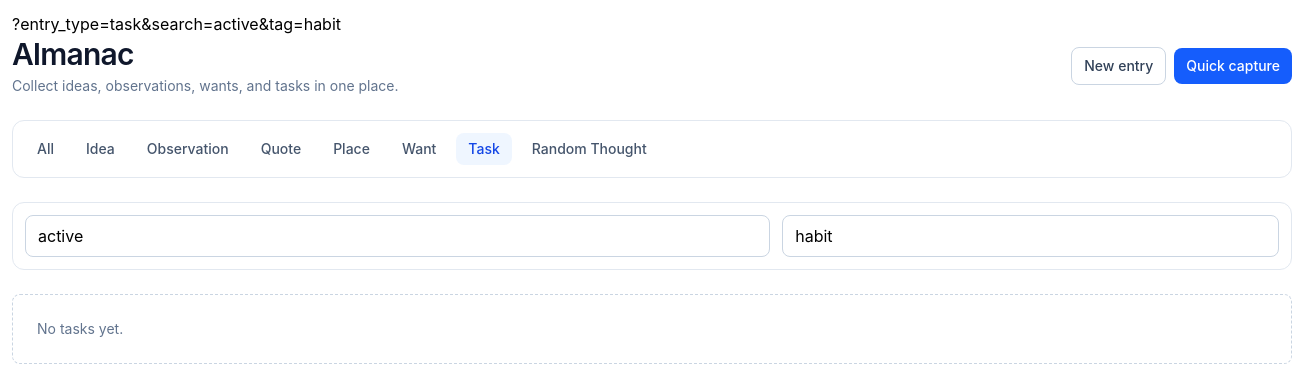
it: almanac coverage-critical files › removes search and tag params when filters are cleared
Step 1. Clear the 1st field with placeholder "Search title, body, tags..." → (398, 236), box [25,215,770,257]
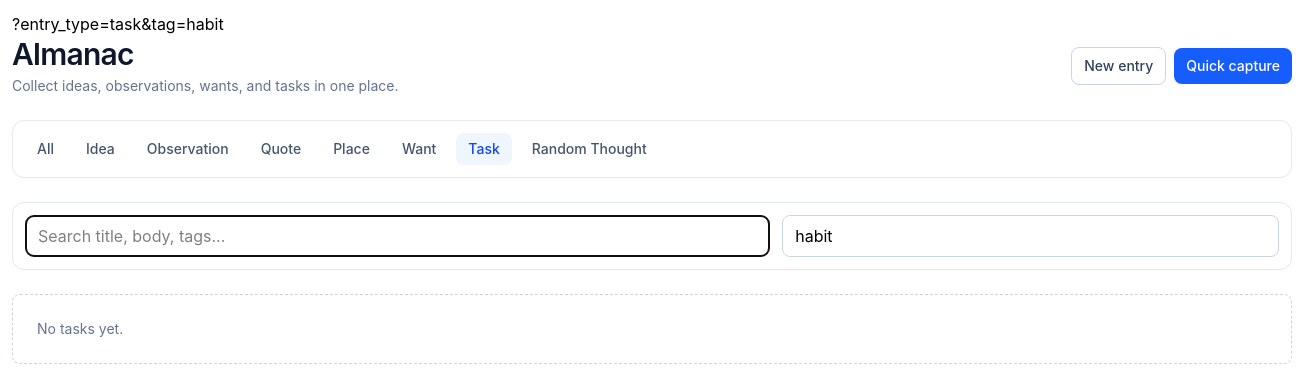
Step 2. Clear the field with placeholder "Filter by tag..." → (1031, 236), box [782,215,1279,257]
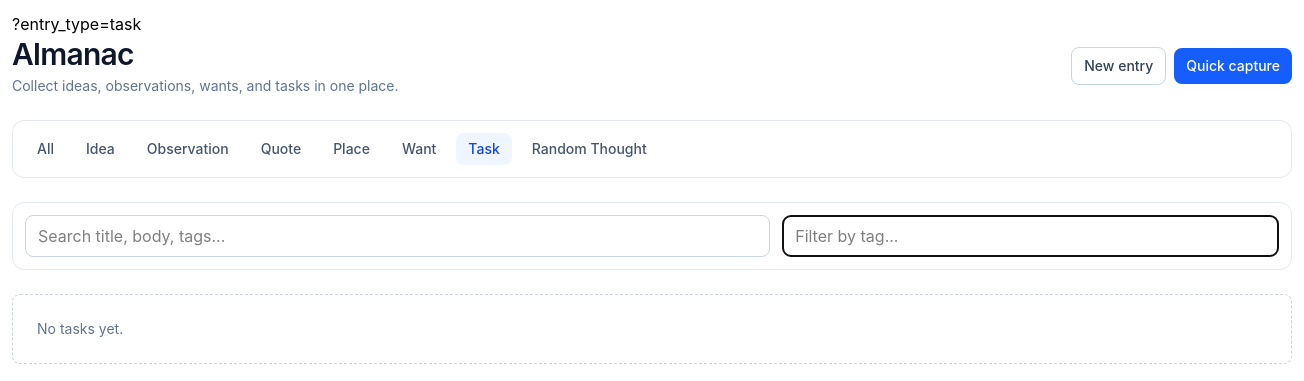
Expected: the text with test id "search" does not show "search="
Expected: the text with test id "search" no longer shows "tag="
